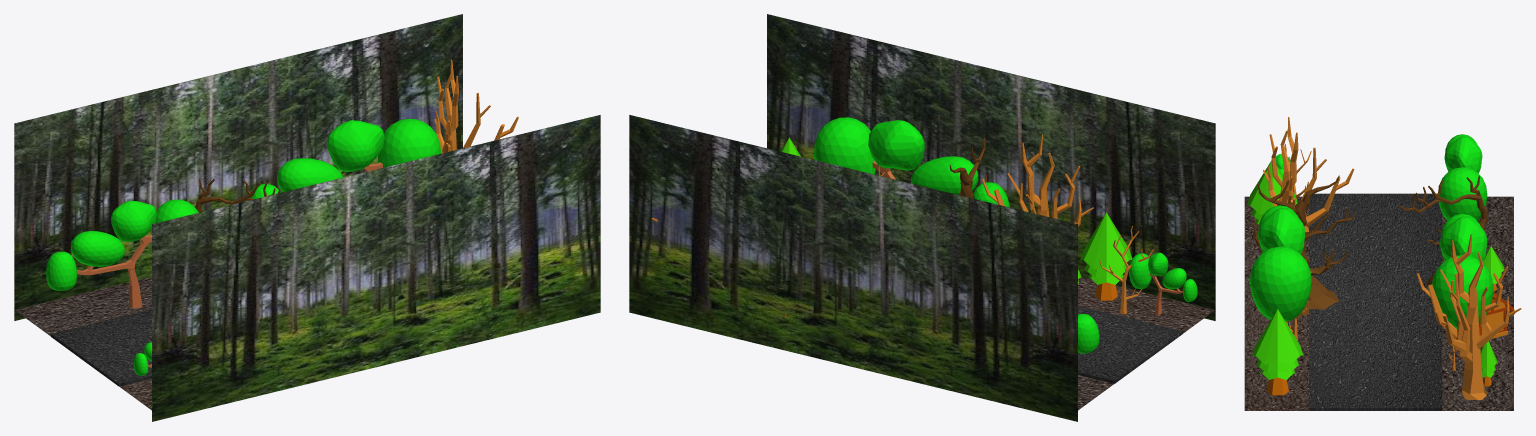
Rendered from env3.game.fbx.
The picture shows the model from 3 angles, left to right: view 1: azimuth 30°, elevation 25°; view 2: azimuth 150°, elevation 25°; view 3: azimuth 270°, elevation 25°; orthographic projection. The views are drawn at different scales.
Visible parts, largest first — view 1: Plane.001, Icosphere.003, Icosphere.002, Plane.002, Plane, 177, 187; view 2: Plane.001, Icosphere.001, Plane.002, Plane, Cone.007, Icosphere.004, 177.001, Icosphere.002, 178, 190; view 3: Plane.002, Plane, Icosphere.001, 177, Icosphere.003, Icosphere.002, Cone.003, 190, 177.001, 187, Cone.007, house_Cube.026 (+2 smaller).
Part boxes in pixels (x1,y1,x2,y2): Plane.001: (14, 14, 600, 421); Icosphere.003: (247, 119, 441, 200); Icosphere.002: (46, 199, 198, 308); Plane.002: (51, 309, 151, 386); Plane: (15, 276, 151, 410); 177: (434, 59, 518, 153); 187: (195, 178, 280, 212); Plane.001: (629, 14, 1215, 421); Icosphere.001: (814, 117, 1009, 207); Plane.002: (1078, 305, 1182, 383); Plane: (1078, 277, 1214, 410); Cone.007: (1080, 212, 1132, 300); Icosphere.004: (1129, 252, 1197, 315); 177.001: (981, 134, 1093, 226); Icosphere.002: (1078, 314, 1099, 353); 178: (1099, 226, 1153, 314); 190: (949, 138, 987, 198); Plane.002: (1309, 193, 1442, 410); Plane: (1244, 196, 1513, 410); Icosphere.001: (1249, 205, 1311, 321); 177: (1417, 233, 1521, 400); Icosphere.003: (1432, 213, 1493, 350); Icosphere.002: (1438, 134, 1487, 220); Cone.003: (1252, 309, 1303, 395); 190: (1253, 175, 1355, 315); 177.001: (1263, 117, 1354, 233); 187: (1399, 175, 1487, 285); Cone.007: (1247, 160, 1297, 224); house_Cube.026: (1479, 291, 1514, 338).
Bounding box in the file's own units: 1851 × 756 × 975.
